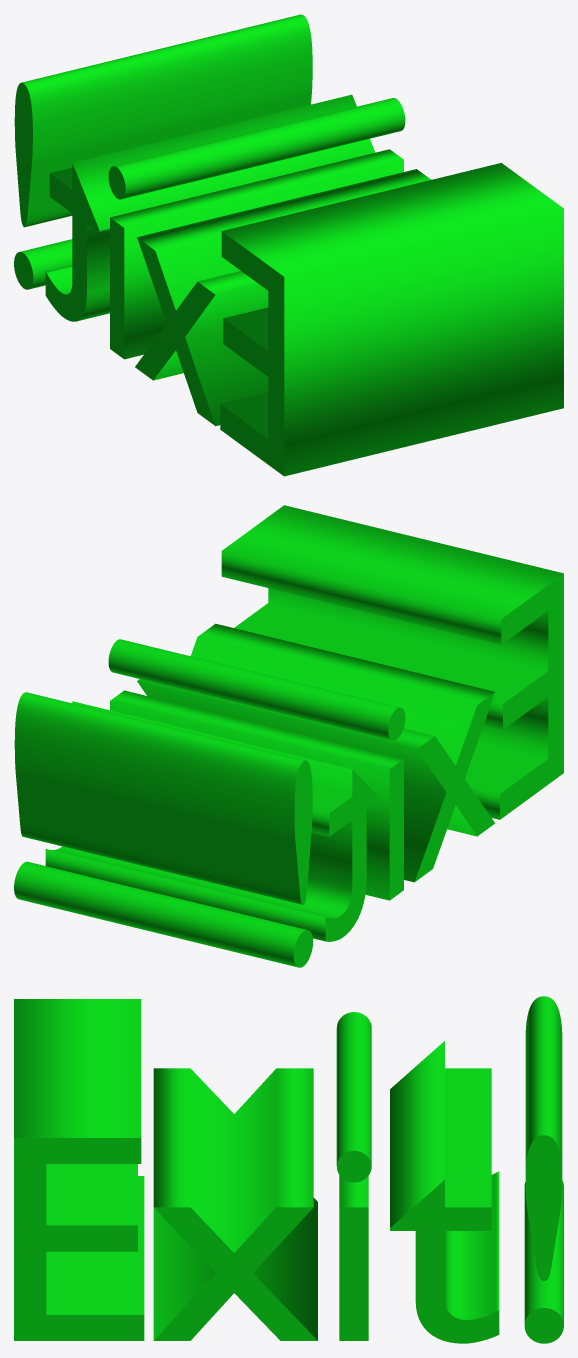
File: Exit.fbx
The picture shows the model from 3 angles, top to bottom: view 1: azimuth 30°, elevation 25°; view 2: azimuth 150°, elevation 25°; view 3: azimuth 270°, elevation 25°; orthographic projection.
Visible parts, largest first — view 1: Exit; view 2: Exit; view 3: Exit.
Boxes of the visible parts, x1,y1,x2,y2 form: Exit: (14,14,563,476); Exit: (14,505,563,967); Exit: (14,996,563,1343).
Bounding box in the file's own units: 100 × 70 × 167.
